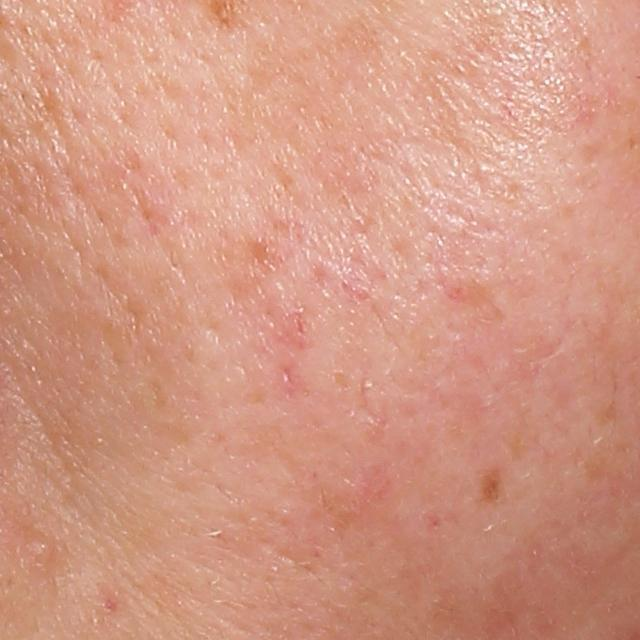melasma: (477, 459, 508, 509)
